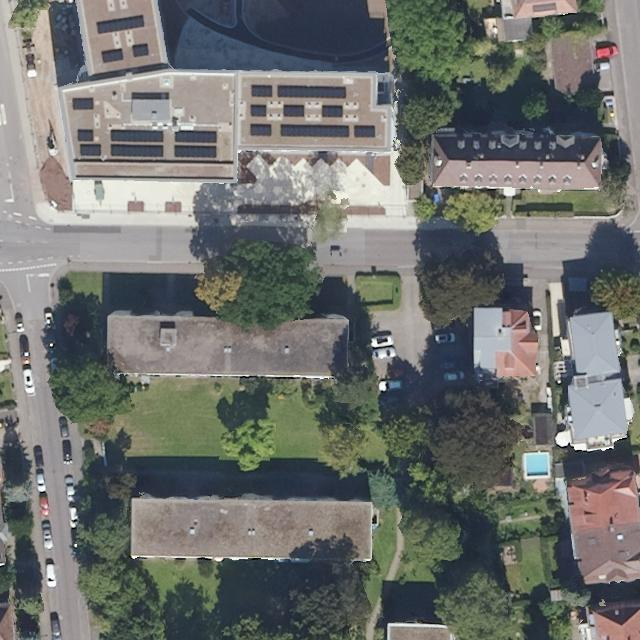PV: (111, 130, 163, 156), (175, 131, 216, 157), (95, 15, 145, 34), (279, 85, 345, 97), (281, 125, 349, 136), (100, 48, 124, 63), (79, 143, 102, 157), (76, 128, 94, 142), (251, 123, 270, 136), (284, 104, 303, 117), (73, 98, 93, 110), (355, 125, 375, 137), (252, 85, 271, 97), (323, 105, 342, 117), (133, 43, 148, 56), (251, 104, 266, 116)
